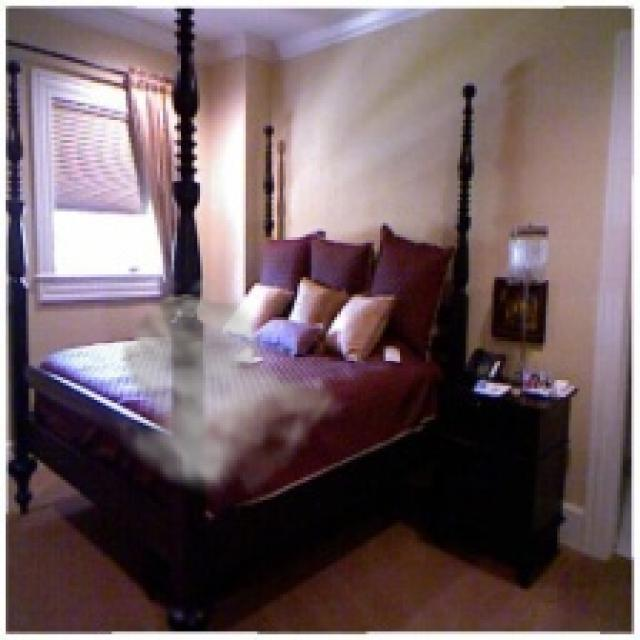Smoke: (100, 274, 352, 500)
